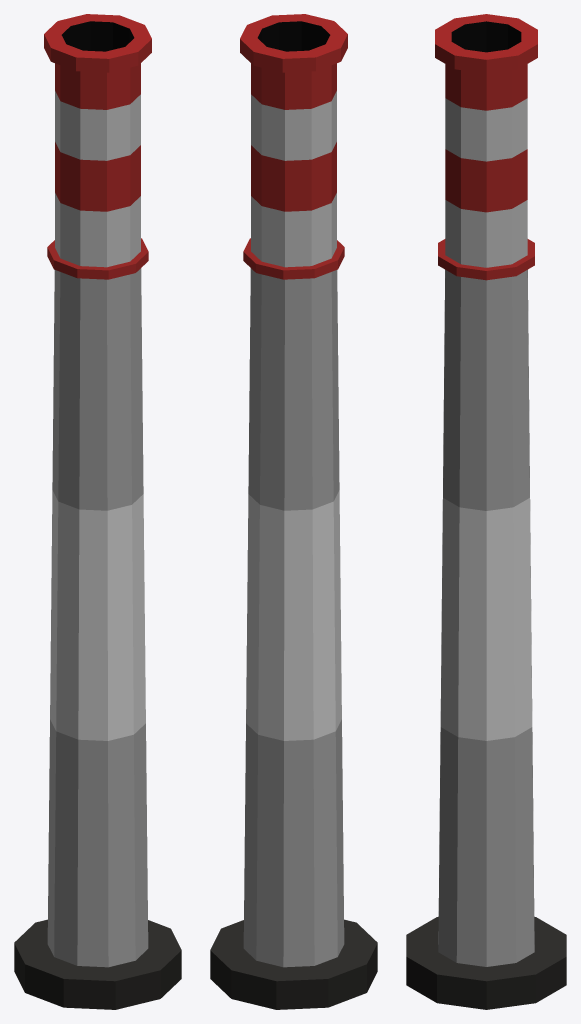
The model's file is Chimney001.fbx.
3 views of the same model, side by side, from view 1: azimuth 30°, elevation 25°; view 2: azimuth 150°, elevation 25°; view 3: azimuth 270°, elevation 25° (orthographic).
Parts seen in each view (by area): view 1: polySurface1996; view 2: polySurface1996; view 3: polySurface1996.
Part boxes in pixels (x1,y1,x2,y2): polySurface1996: (14,14,181,1009); polySurface1996: (210,14,377,1009); polySurface1996: (406,14,566,1009).
Bounding box in the file's own units: 257 × 1579 × 244.
